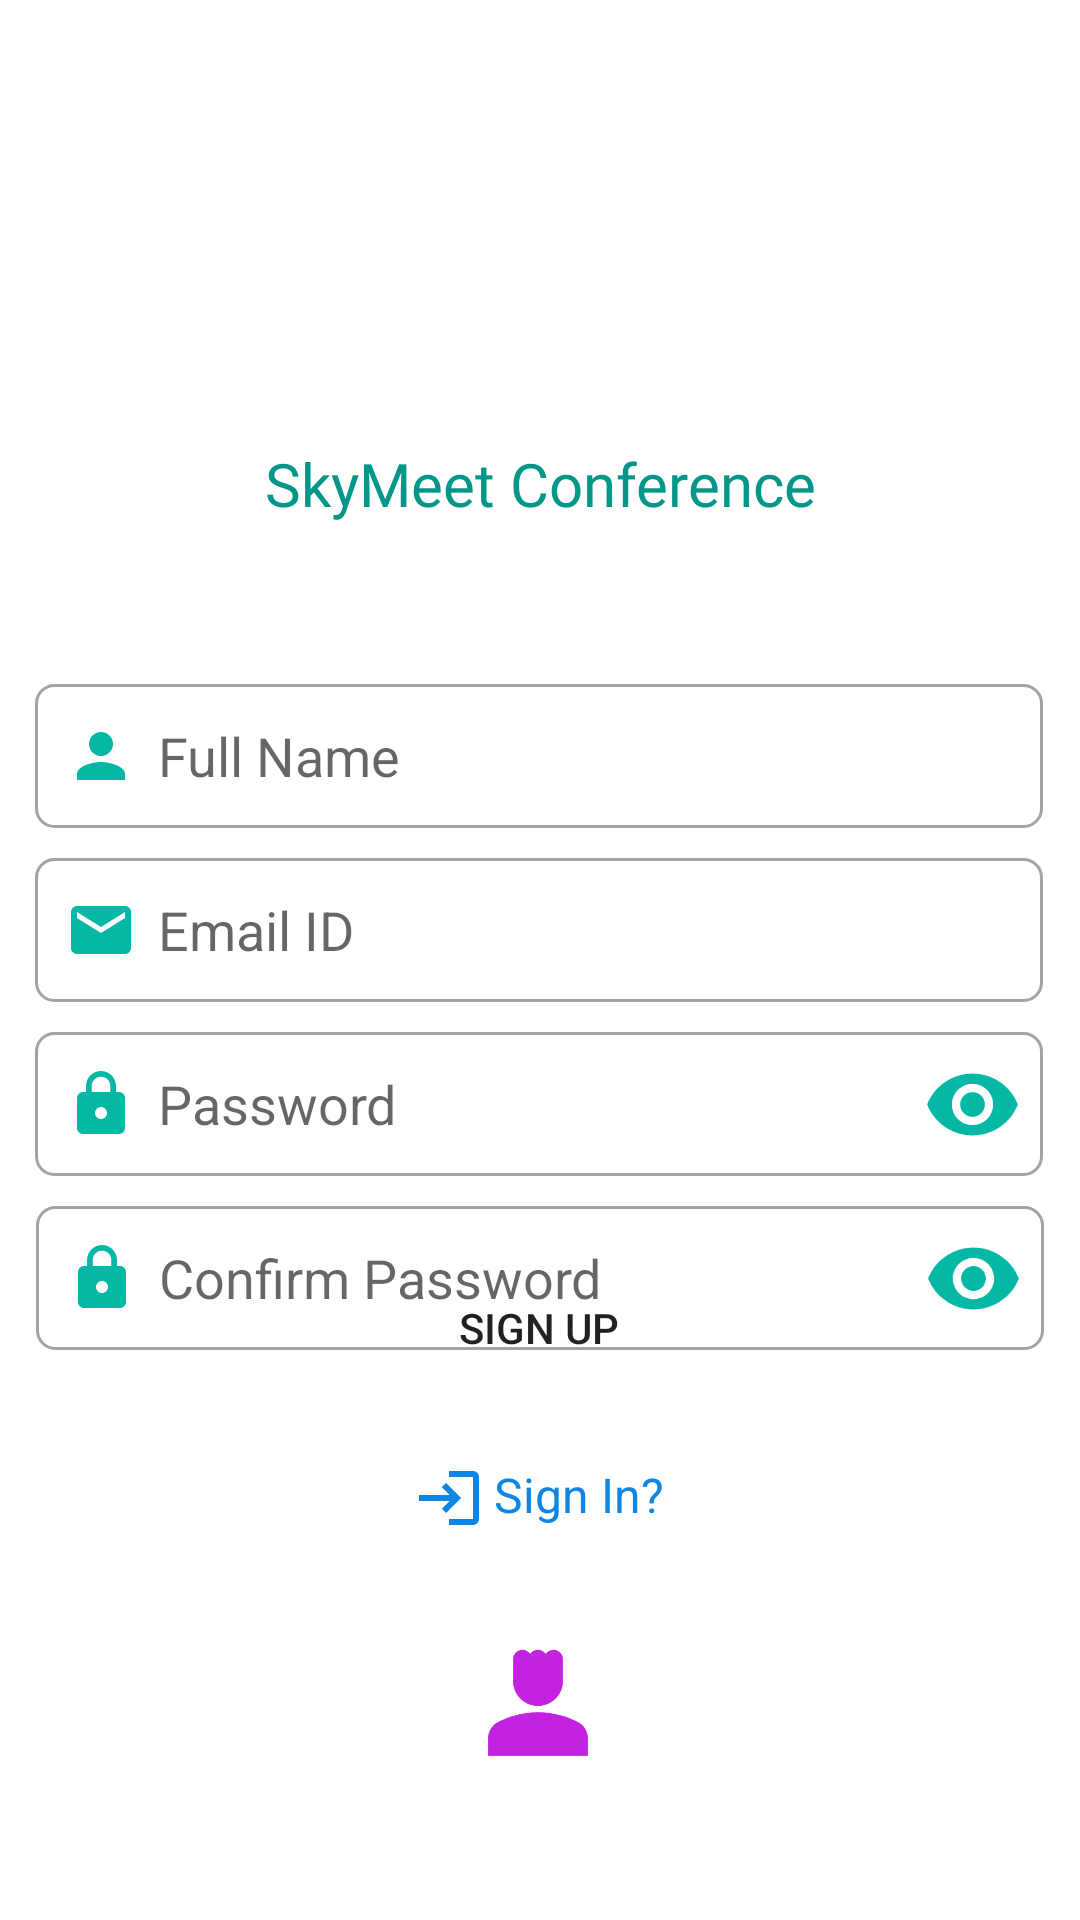

Named icons in this screenshot (1080w x 1920h) and their bounding boxes, bbox=[x1, y1, x2, y2]:
guest: bbox=[488, 1649, 588, 1756]
visibility: bbox=[927, 1073, 1018, 1136], bbox=[928, 1247, 1019, 1310]
